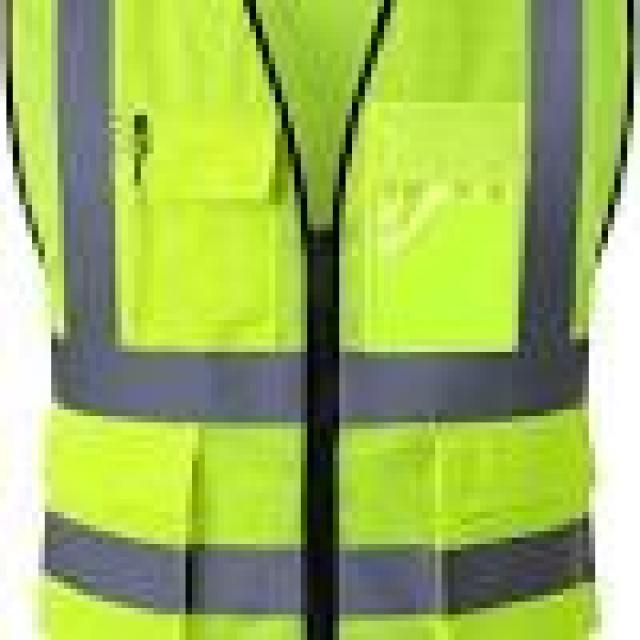Reflective-Jacket: (13, 0, 640, 634)
